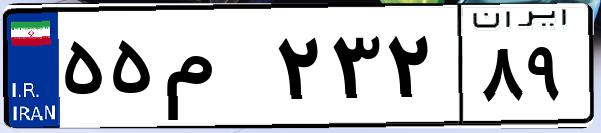2: (270, 28, 330, 110), (385, 28, 445, 110)
3: (330, 28, 385, 110)
5: (57, 26, 110, 100), (110, 28, 158, 98)
8: (475, 38, 525, 113)
9: (525, 38, 570, 115)
م: (158, 20, 270, 120)
